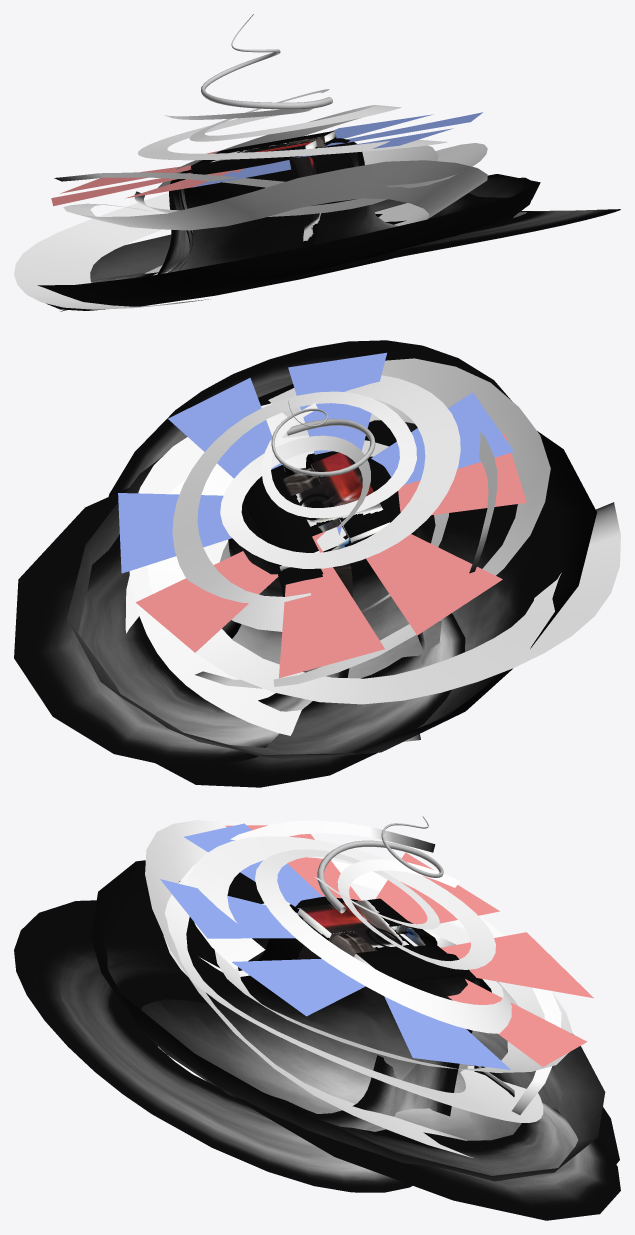
File: MysteryBoxGroup.fbx
3 renders of one model, top to bottom at view 1: azimuth 30°, elevation 25°; view 2: azimuth 150°, elevation 25°; view 3: azimuth 270°, elevation 25°, orthographic. The views are drawn at different scales.
Visible parts, largest first — view 1: WonderBox_Smoke, WonderBox_SmokeTrails, WonderBox_SmokeTrails3, WonderBox_SmokeTrails4, WonderBox_SmokeTop, Box_Geo05_mBox_rays_geo_blue, WonderBox_SmokeTrails5, WonderBox_SmokeTrails2, Box_Geo05_mBox_rays_geo_red, WonderBox_SmokeTop2, Box_Geo05_mBox_lid_geo, WonderBox_SmokeTrails6 (+2 smaller); view 2: WonderBox_SmokeTop2, WonderBox_Smoke, Box_Geo05_mBox_rays_geo_red, WonderBox_SmokeTrails3, Box_Geo05_mBox_rays_geo_blue, WonderBox_SmokeTrails4, WonderBox_SmokeTop3, WonderBox_SmokeTrails5, WonderBox_SmokeTrails, WonderBox_SmokeTrails2, WonderBox_SmokeTop, Box_Geo05_mBox_lid_geo (+1 smaller); view 3: WonderBox_Smoke, WonderBox_SmokeTop, WonderBox_SmokeTop2, Box_Geo05_mBox_rays_geo_blue, Box_Geo05_mBox_rays_geo_red, WonderBox_SmokeTrails4, WonderBox_SmokeTrails5, WonderBox_SmokeTrails, WonderBox_SmokeTrails2, Box_Geo05_mBox_lid_geo, WonderBox_SmokeTrails3, WonderBox_SmokeTop3 (+2 smaller).
Boxes of the visible parts, bbox=[...] form: WonderBox_Smoke: bbox=[37, 138, 537, 310]; WonderBox_SmokeTrails: bbox=[63, 160, 487, 230]; WonderBox_SmokeTrails3: bbox=[14, 145, 438, 309]; WonderBox_SmokeTrails4: bbox=[137, 108, 448, 160]; WonderBox_SmokeTop: bbox=[251, 209, 620, 287]; Box_Geo05_mBox_rays_geo_blue: bbox=[193, 112, 482, 187]; WonderBox_SmokeTrails5: bbox=[158, 89, 401, 187]; WonderBox_SmokeTrails2: bbox=[54, 143, 487, 311]; Box_Geo05_mBox_rays_geo_red: bbox=[51, 151, 243, 206]; WonderBox_SmokeTop2: bbox=[157, 168, 540, 274]; Box_Geo05_mBox_lid_geo: bbox=[191, 131, 336, 173]; WonderBox_SmokeTrails6: bbox=[201, 14, 332, 109]; WonderBox_SmokeTop2: bbox=[14, 488, 349, 765]; WonderBox_Smoke: bbox=[67, 384, 596, 760]; Box_Geo05_mBox_rays_geo_red: bbox=[135, 434, 526, 678]; WonderBox_SmokeTrails3: bbox=[147, 435, 620, 704]; Box_Geo05_mBox_rays_geo_blue: bbox=[118, 352, 513, 573]; WonderBox_SmokeTrails4: bbox=[220, 375, 460, 568]; WonderBox_SmokeTop3: bbox=[155, 533, 465, 787]; WonderBox_SmokeTrails5: bbox=[172, 391, 416, 631]; WonderBox_SmokeTrails: bbox=[125, 358, 550, 688]; WonderBox_SmokeTrails2: bbox=[129, 400, 497, 741]; WonderBox_SmokeTop: bbox=[108, 340, 511, 638]; Box_Geo05_mBox_lid_geo: bbox=[243, 452, 389, 570]; WonderBox_Smoke: bbox=[91, 860, 605, 1181]; WonderBox_SmokeTop: bbox=[14, 900, 468, 1192]; WonderBox_SmokeTop2: bbox=[232, 953, 620, 1220]; Box_Geo05_mBox_rays_geo_blue: bbox=[160, 823, 510, 1069]; Box_Geo05_mBox_rays_geo_red: bbox=[225, 825, 593, 1066]; WonderBox_SmokeTrails4: bbox=[187, 836, 495, 969]; WonderBox_SmokeTrails5: bbox=[255, 849, 517, 1033]; WonderBox_SmokeTrails: bbox=[145, 820, 561, 1157]; WonderBox_SmokeTrails2: bbox=[163, 820, 543, 1122]; Box_Geo05_mBox_lid_geo: bbox=[297, 898, 467, 982]; WonderBox_SmokeTrails3: bbox=[214, 891, 572, 1072]; WonderBox_SmokeTop3: bbox=[400, 931, 619, 1164].
Size of the model in its own units: 0.2981 by 0.176 by 0.2822.
